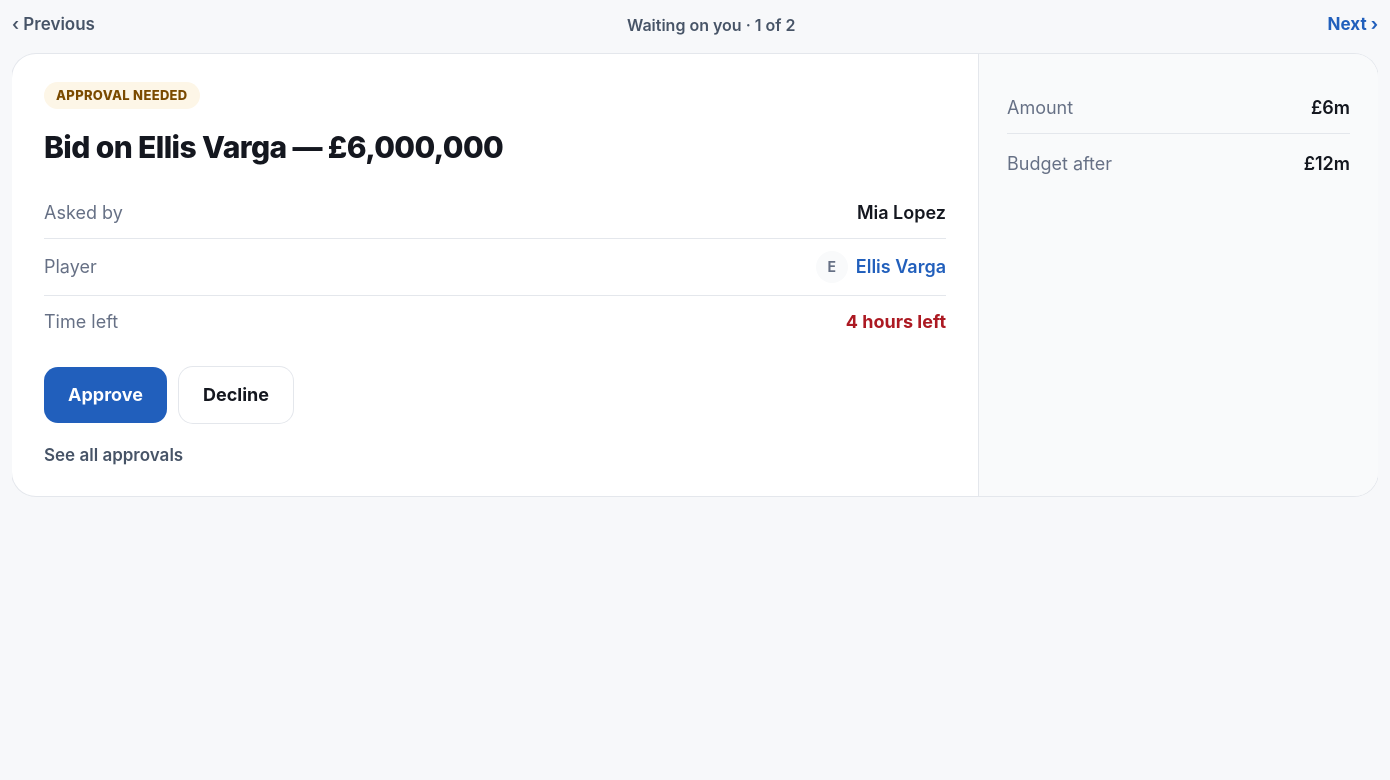
Test: LiteApprovalPage › asks once more before approving, and declines with a reason
The width and height of the screenshot is (1390, 780).
Click the button "Approve". click: (105, 394)
box: [44,366,167,422]
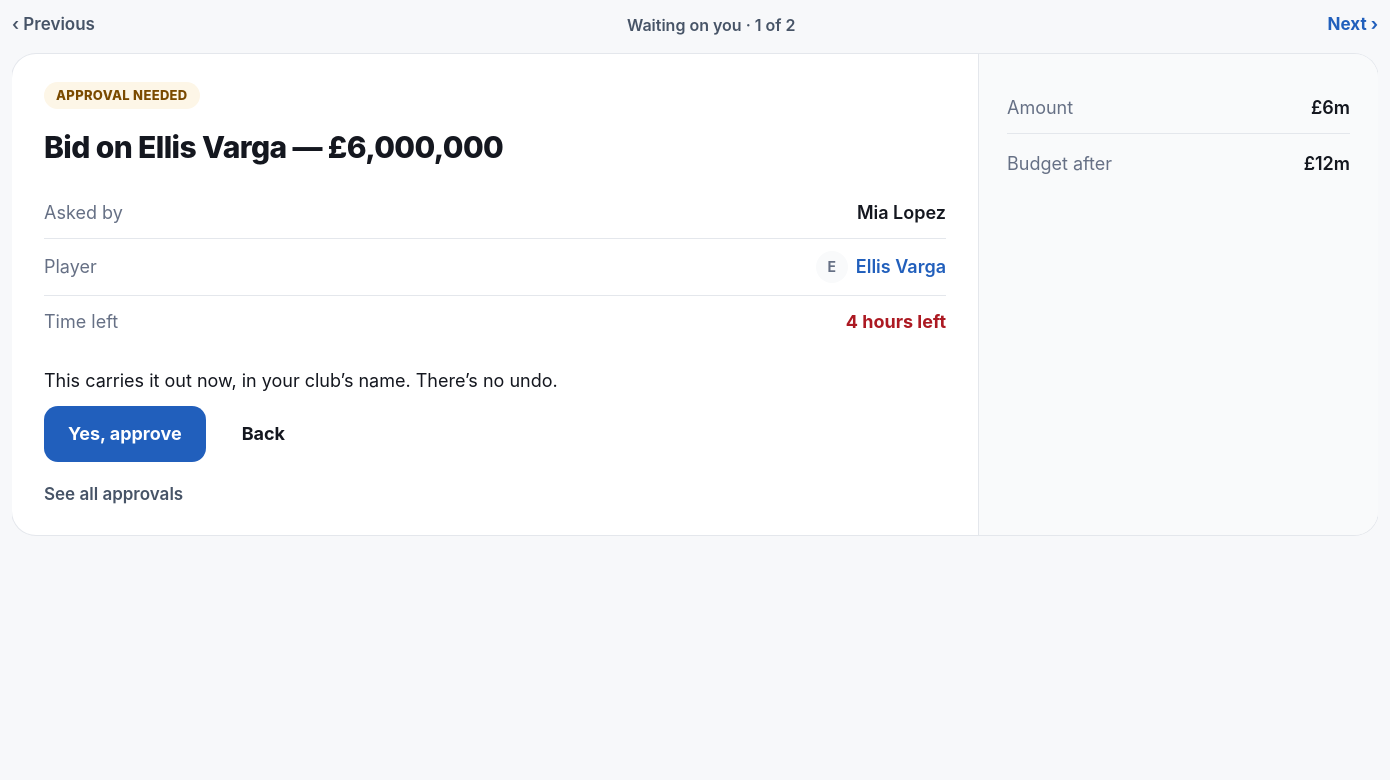
Expected: the text "no undo" is shown, [44,370,558,390]
Click the button "Back". click: (263, 434)
box: [218,406,309,462]
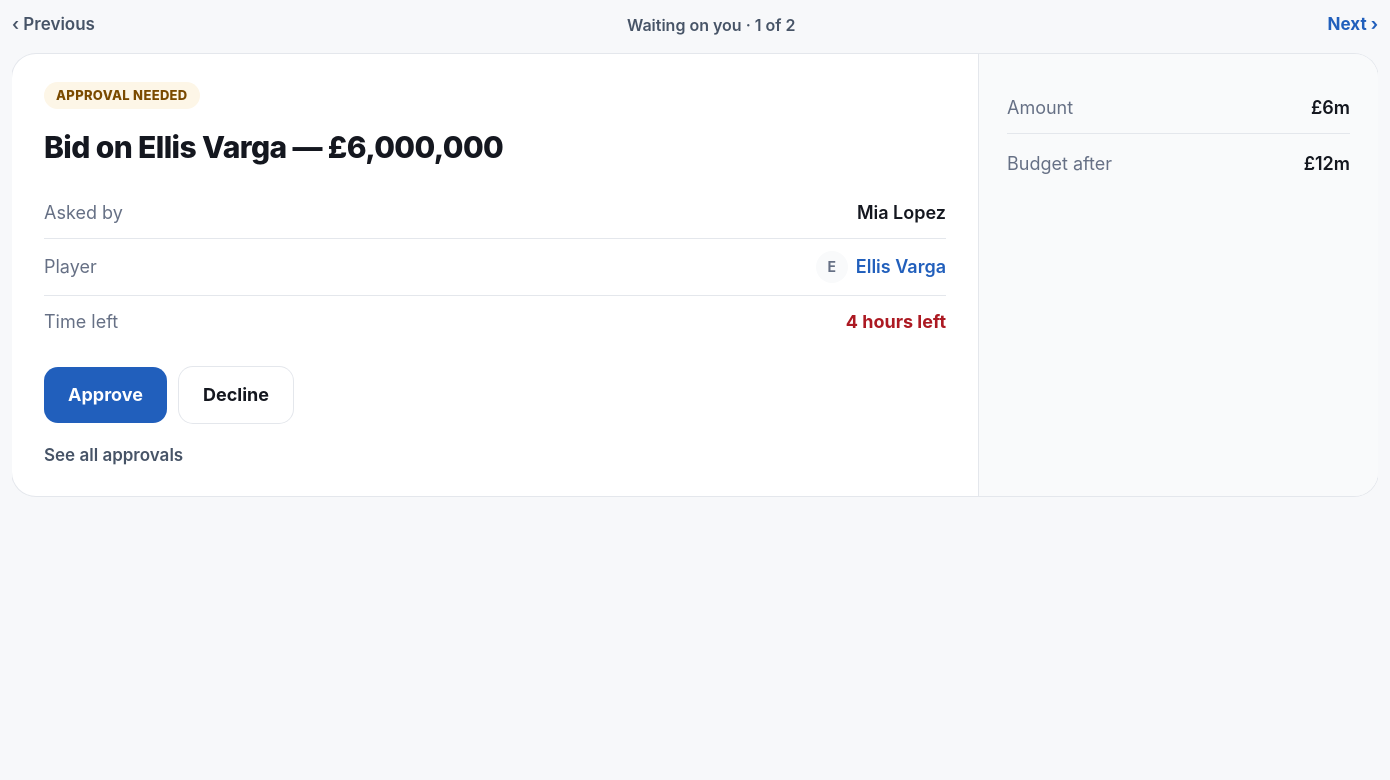
Click the button "Decline". click: (236, 394)
box: [179,366,293,422]
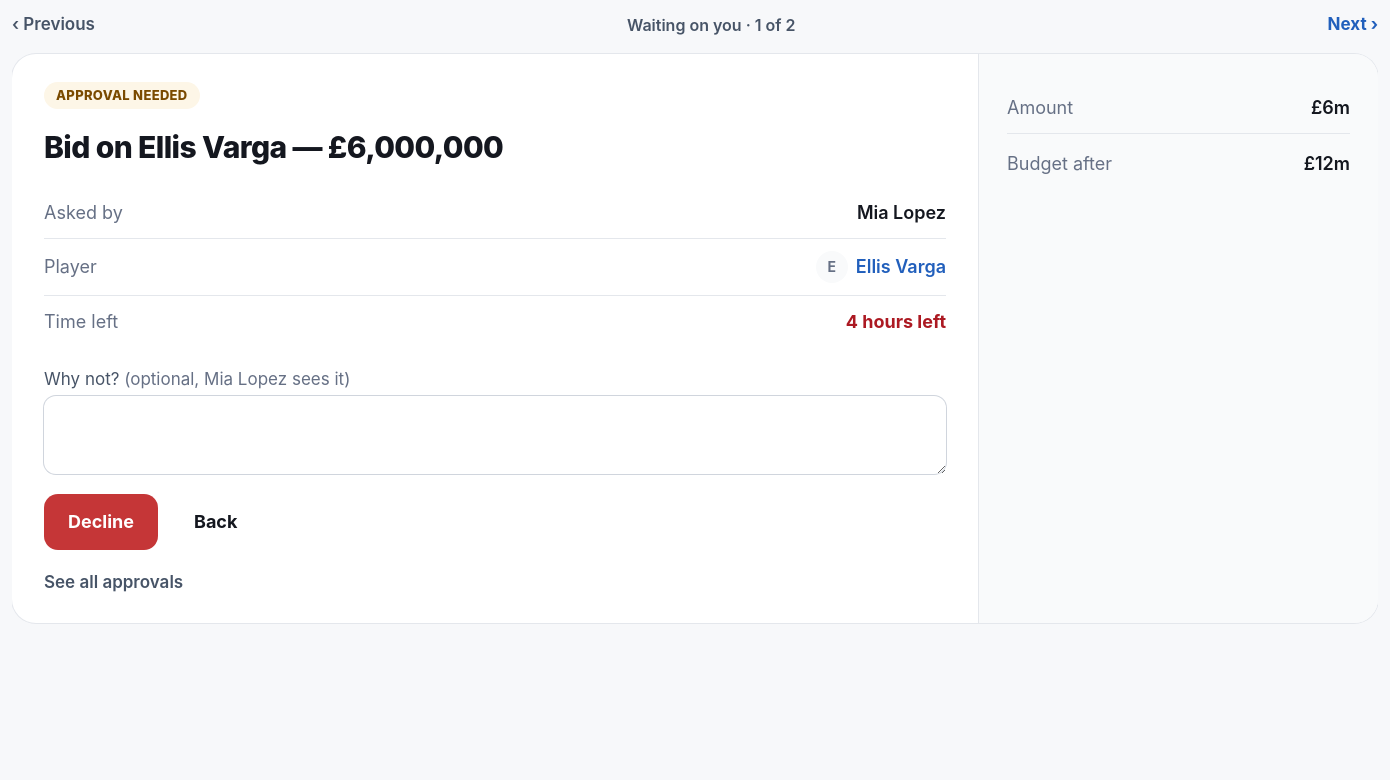
Type "Too much for a backup" into the text box. click: (495, 435)
box: [44,396,946,474]
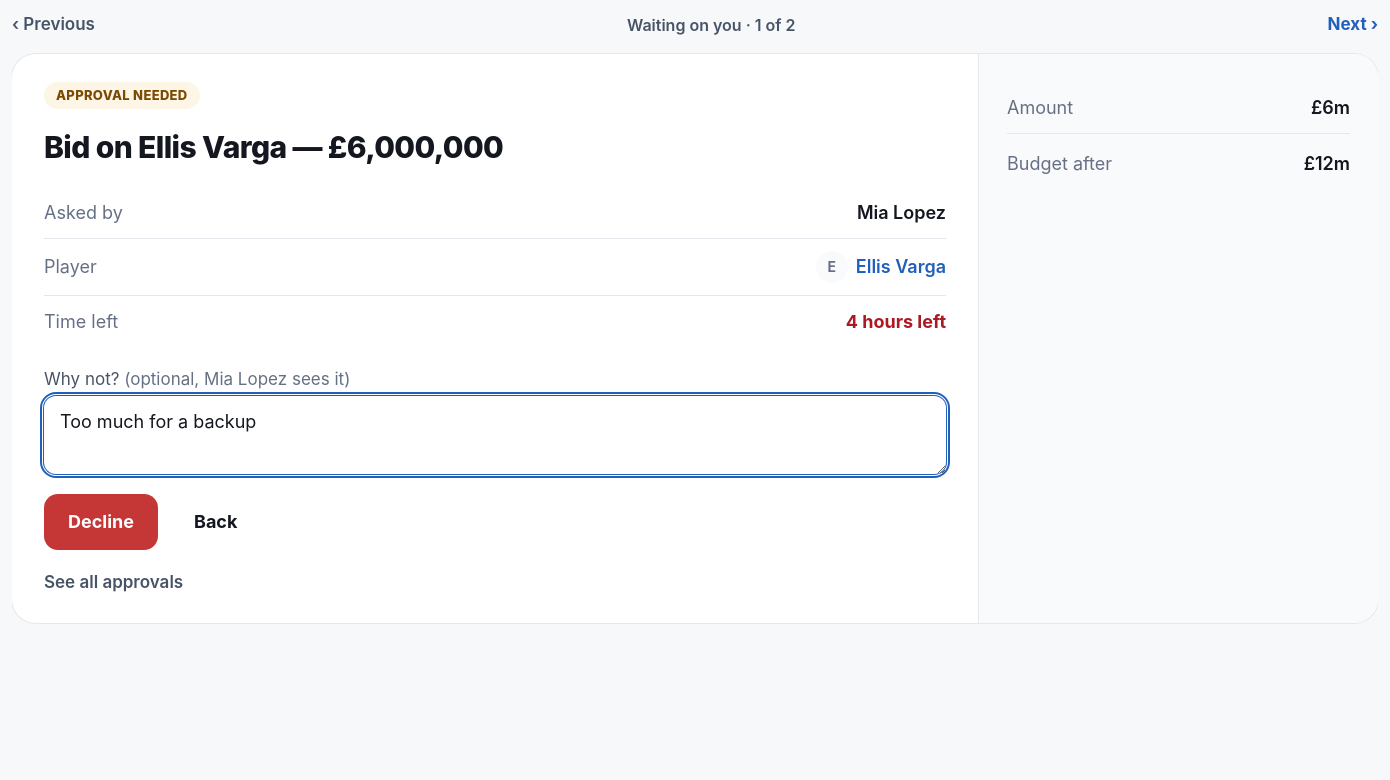
Click the button "Decline". click: (101, 522)
box: [44,494,158,550]
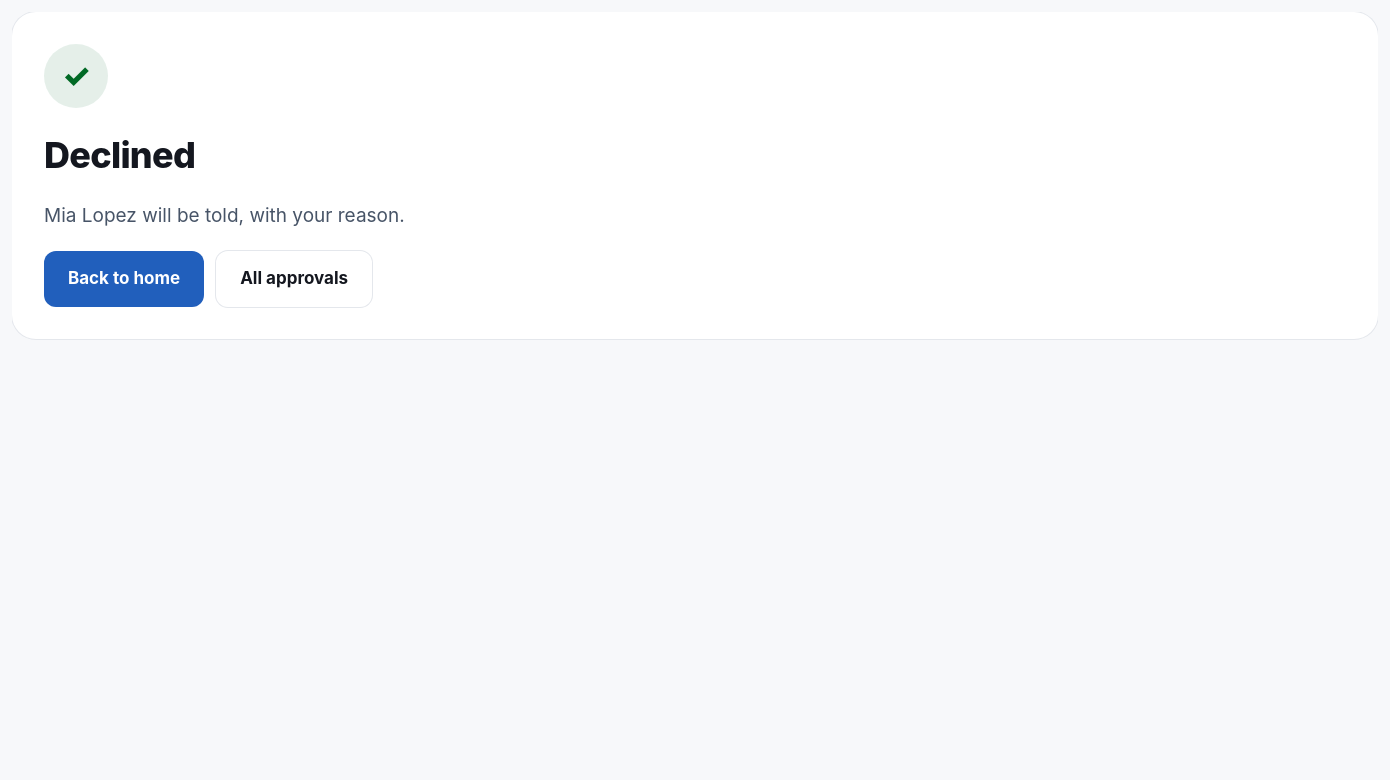
Expected: the heading "Declined" is shown, [44,128,195,182]
